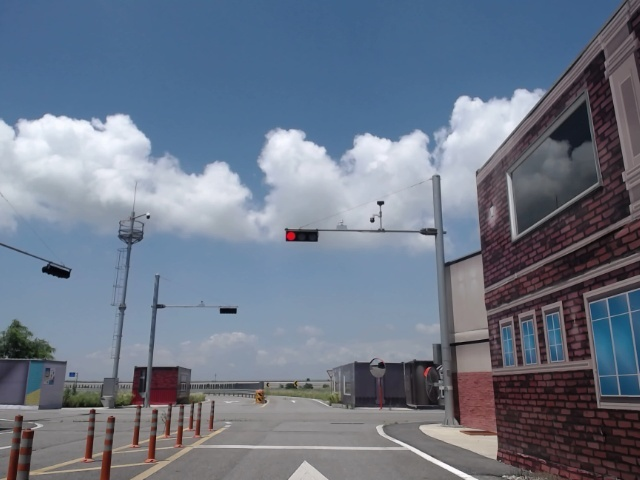red_3: (284, 228, 320, 243)
